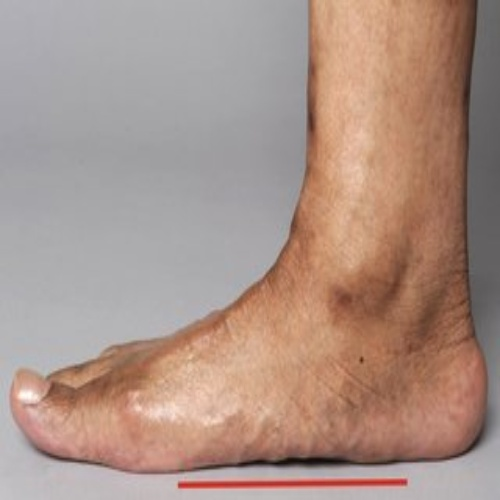Top_Foot: (10, 318, 490, 473)
